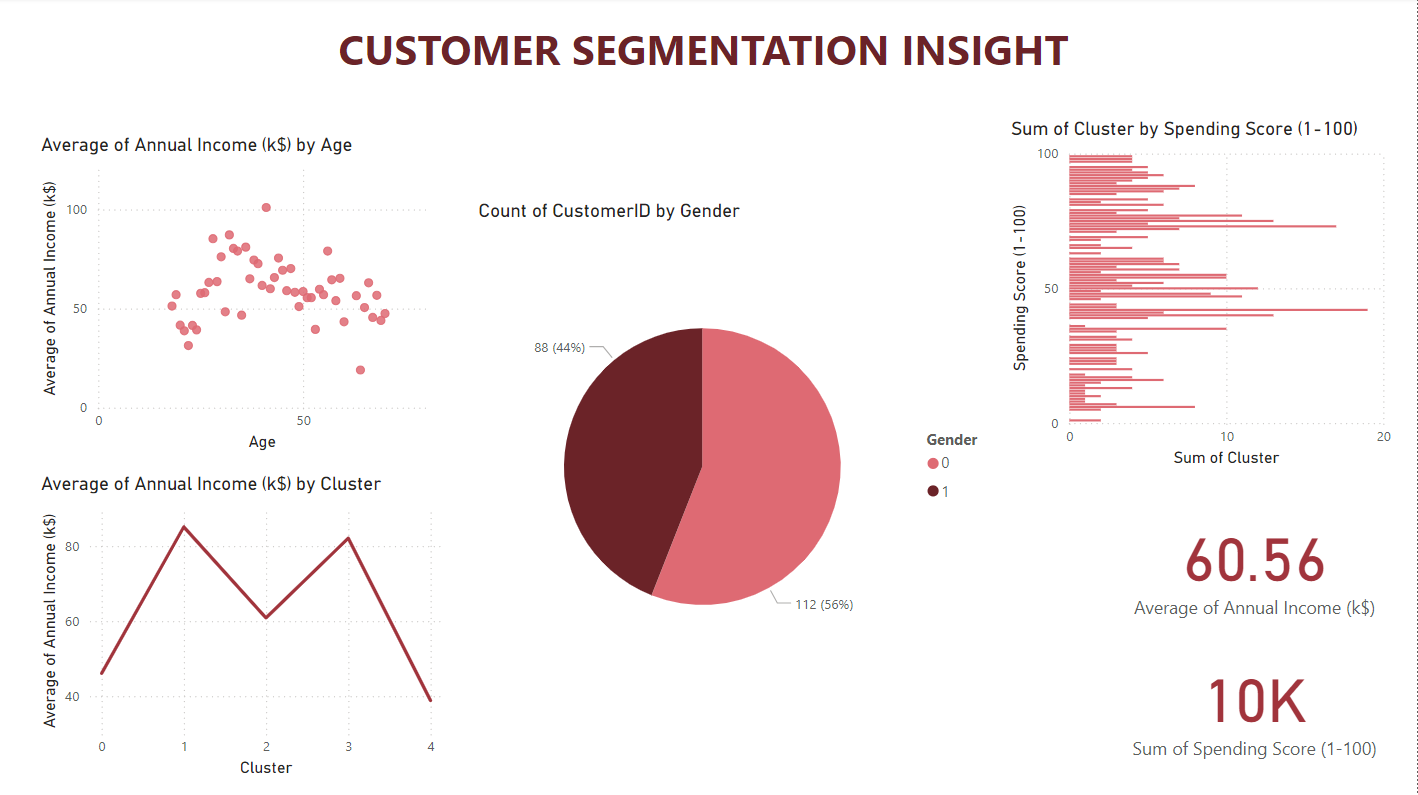

What the dashboard file says about the page in this screenshot:
{"tool":"powerbi","page":{"name":"Page 1","canvas":[1280,720],"ordinal":0},"visuals":[{"type":"barChart","fields":{"Y":["Sum(Mall_Customers_with_Clusters.Cluster)"],"Category":["Mall_Customers_with_Clusters.Spending Score (1-100)"]},"box":[908.6,108.6,352.9,320],"z":0},{"type":"scatterChart","fields":{"X":["Mall_Customers_with_Clusters.Age"],"Y":["Avg(Mall_Customers_with_Clusters.Annual Income (k$))"]},"box":[34.3,122.9,364.3,291.4],"z":1000},{"type":"pieChart","fields":{"Y":["CountNonNull(Mall_Customers_with_Clusters.CustomerID)"],"Category":["Mall_Customers_with_Clusters.Gender"]},"box":[428.6,182.9,480,462.9],"z":2000},{"type":"card","fields":{"Values":["Avg(Mall_Customers_with_Clusters.Annual Income (k$))"]},"box":[1005.7,452.9,255.7,117.1],"z":3000},{"type":"card","fields":{"Values":["Sum(Mall_Customers_with_Clusters.Spending Score (1-100))"]},"box":[1005.7,580,255.7,117.1],"z":4000},{"type":"lineChart","fields":{"Category":["Mall_Customers_with_Clusters.Cluster"],"Y":["Avg(Mall_Customers_with_Clusters.Annual Income (k$))"]},"box":[34.3,428.6,371.4,280],"z":5000},{"type":"textbox","box":[32.9,17.1,1207.1,70],"z":6000}]}

Visuals, with their boxes in screenshot pixels (x1, y1, x2, y2), scaled from the page's 1280x720 canvas onto the 1418x795 screenshot:
barChart - Sum(Mall_Customers_with_Clusters.Cluster) x Mall_Customers_with_Clusters.Spending Score (1-100): bbox=(1007, 120, 1398, 473)
scatterChart - Mall_Customers_with_Clusters.Age x Avg(Mall_Customers_with_Clusters.Annual Income (k$)): bbox=(38, 136, 442, 457)
pieChart - CountNonNull(Mall_Customers_with_Clusters.CustomerID) x Mall_Customers_with_Clusters.Gender: bbox=(475, 202, 1007, 713)
card - Avg(Mall_Customers_with_Clusters.Annual Income (k$)): bbox=(1114, 500, 1397, 629)
card - Sum(Mall_Customers_with_Clusters.Spending Score (1-100)): bbox=(1114, 640, 1397, 770)
lineChart - Mall_Customers_with_Clusters.Cluster x Avg(Mall_Customers_with_Clusters.Annual Income (k$)): bbox=(38, 473, 449, 782)
textbox: bbox=(36, 19, 1374, 96)
